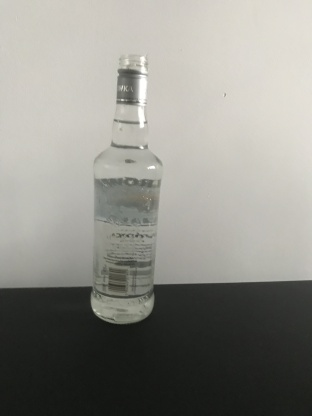nakretka: (114, 52, 149, 109)
